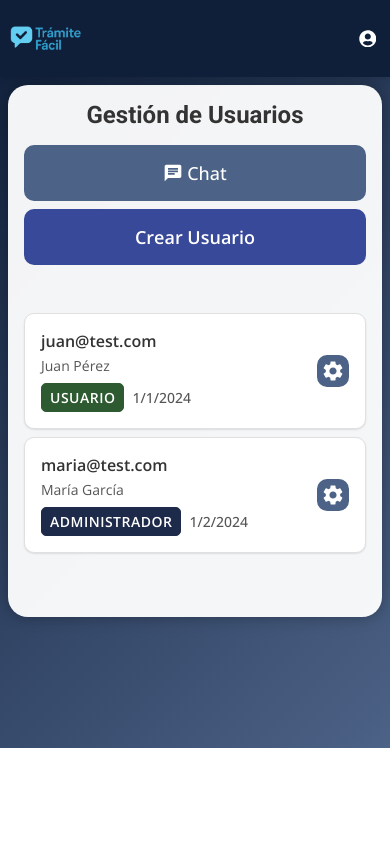
Scenario: AdminUsers Component › user modal functionality › opens modal when config button clicked
Find config button using aria-label (there are two - mobile and desktop)
Click the button named "Configurar usuario Juan Pérez" at coordinates (333, 371), box left=317, top=355, right=349, bottom=387
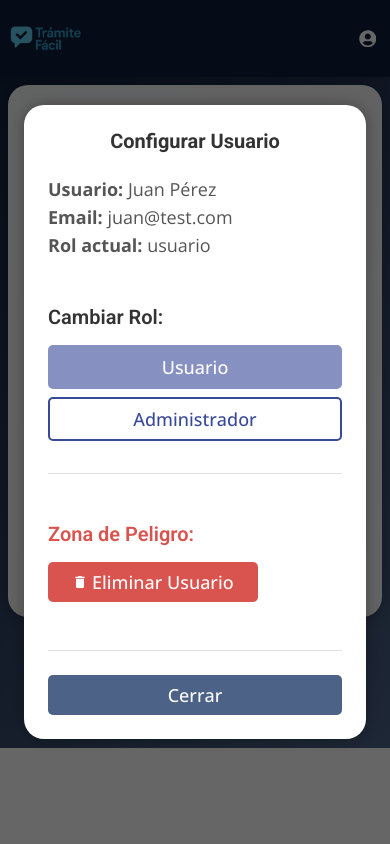
Expected: the heading "Configurar Usuario" is shown, left=110, top=129, right=280, bottom=153
